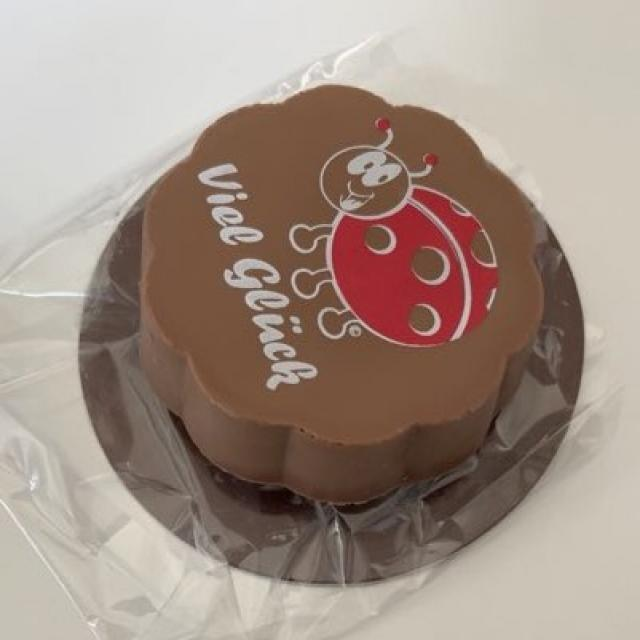chocolate: (128, 102, 571, 516)
